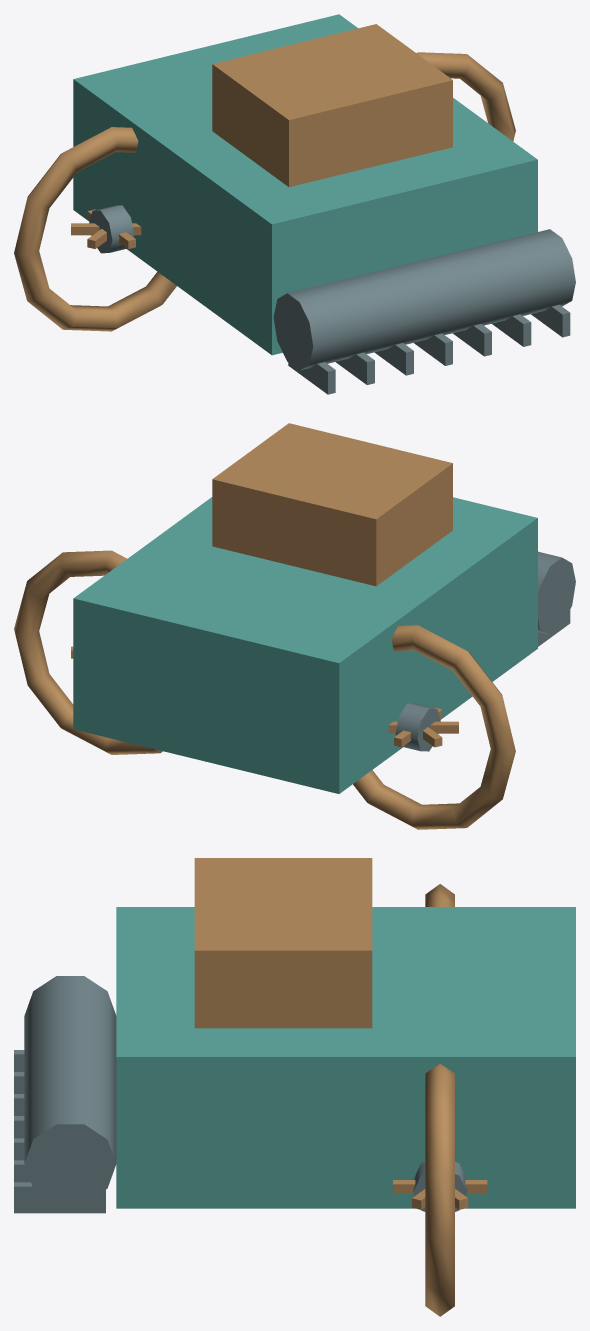
The model's file is Baler.glb.
3 views of the same model, one above another, from view 1: azimuth 30°, elevation 25°; view 2: azimuth 150°, elevation 25°; view 3: azimuth 270°, elevation 25° (orthographic). The views are drawn at different scales.
Parts seen in each view (by area): view 1: baler-static-baler-paint-mat, baler-static-baler-timber-mat, baler-static-baler-iron-mat, baler-static-baler-wheel-mat, baler-static-baler-steel-mat; view 2: baler-static-baler-paint-mat, baler-static-baler-timber-mat, baler-static-baler-wheel-mat, baler-static-baler-iron-mat; view 3: baler-static-baler-paint-mat, baler-static-baler-timber-mat, baler-static-baler-iron-mat, baler-static-baler-wheel-mat, baler-static-baler-steel-mat.
Boxes of the visible parts, x1,y1,x2,y2 form: baler-static-baler-paint-mat: (73, 14, 537, 355); baler-static-baler-timber-mat: (71, 24, 452, 249); baler-static-baler-iron-mat: (89, 205, 575, 370); baler-static-baler-wheel-mat: (14, 52, 515, 331); baler-static-baler-steel-mat: (288, 304, 570, 394); baler-static-baler-paint-mat: (73, 497, 537, 793); baler-static-baler-timber-mat: (71, 423, 458, 747); baler-static-baler-wheel-mat: (14, 550, 515, 829); baler-static-baler-iron-mat: (395, 551, 575, 751); baler-static-baler-paint-mat: (116, 907, 575, 1208); baler-static-baler-timber-mat: (194, 858, 487, 1209); baler-static-baler-iron-mat: (24, 976, 467, 1211); baler-static-baler-wheel-mat: (425, 884, 454, 1316); baler-static-baler-steel-mat: (14, 1050, 105, 1213).
Bounding box in the file's own units: 3.21 × 1.66 × 2.69.
